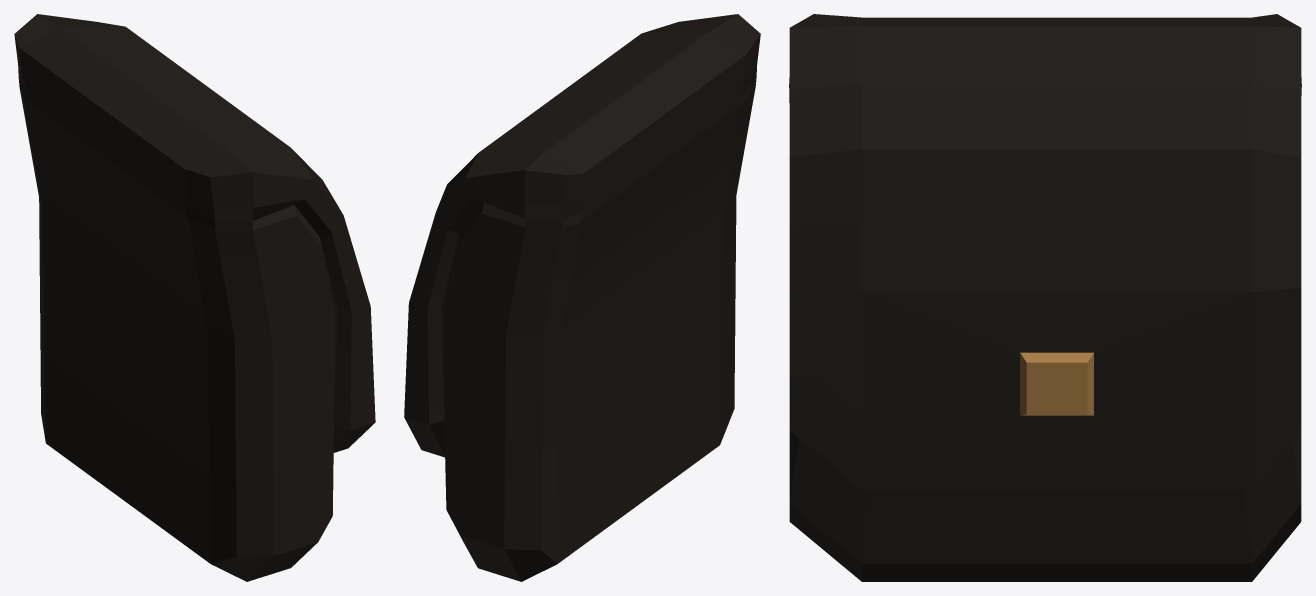
The model's file is SM_Item_Pouch_Attachment_02.glb.
3 views of the same model, side by side, from view 1: azimuth 30°, elevation 25°; view 2: azimuth 150°, elevation 25°; view 3: azimuth 270°, elevation 25° (orthographic). The views are drawn at different scales.
Parts seen in each view (by area): view 1: SM_Item_Pouch_Attachment_02; view 2: SM_Item_Pouch_Attachment_02; view 3: SM_Item_Pouch_Attachment_02.
Boxes of the visible parts, <box> form: SM_Item_Pouch_Attachment_02: <box>14,14,375,581</box>; SM_Item_Pouch_Attachment_02: <box>404,14,760,581</box>; SM_Item_Pouch_Attachment_02: <box>789,14,1301,581</box>.
Size of the model in its own units: 0.000999 by 0.00247 by 0.0022.
